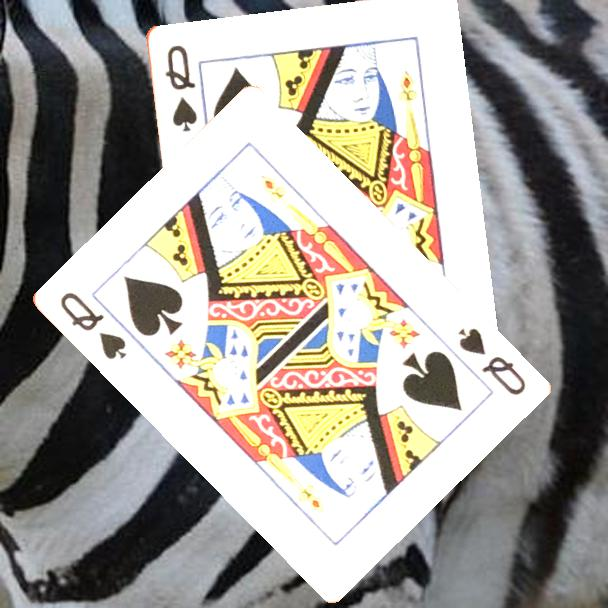s12: (453, 324, 528, 398), (56, 288, 128, 363), (161, 41, 200, 135)
